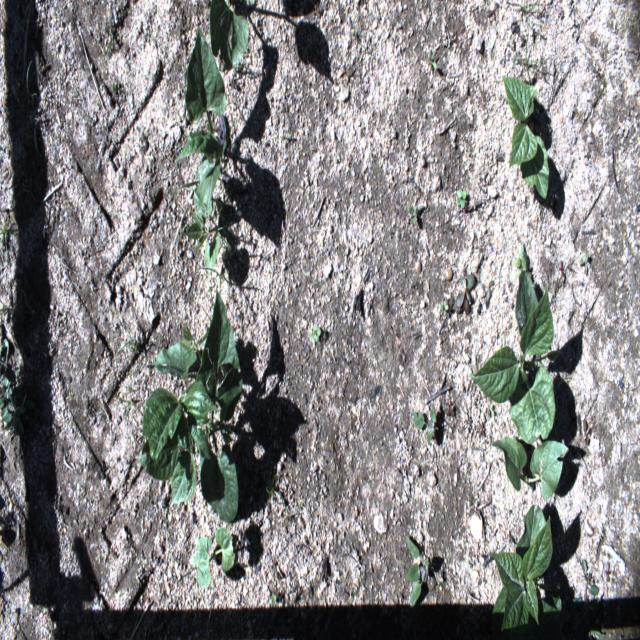crop: (135, 292, 243, 522), (466, 268, 560, 446), (172, 24, 229, 225), (488, 504, 562, 639), (502, 76, 550, 200), (492, 435, 569, 500), (180, 208, 237, 275), (209, 0, 249, 72), (187, 527, 235, 587)
weed: (0, 373, 34, 437), (506, 0, 542, 57), (404, 535, 429, 609), (410, 401, 437, 446), (511, 56, 545, 84), (456, 273, 476, 314), (581, 558, 599, 594), (514, 243, 528, 281), (406, 204, 425, 223), (456, 189, 466, 209), (310, 324, 321, 342), (438, 300, 449, 316)
